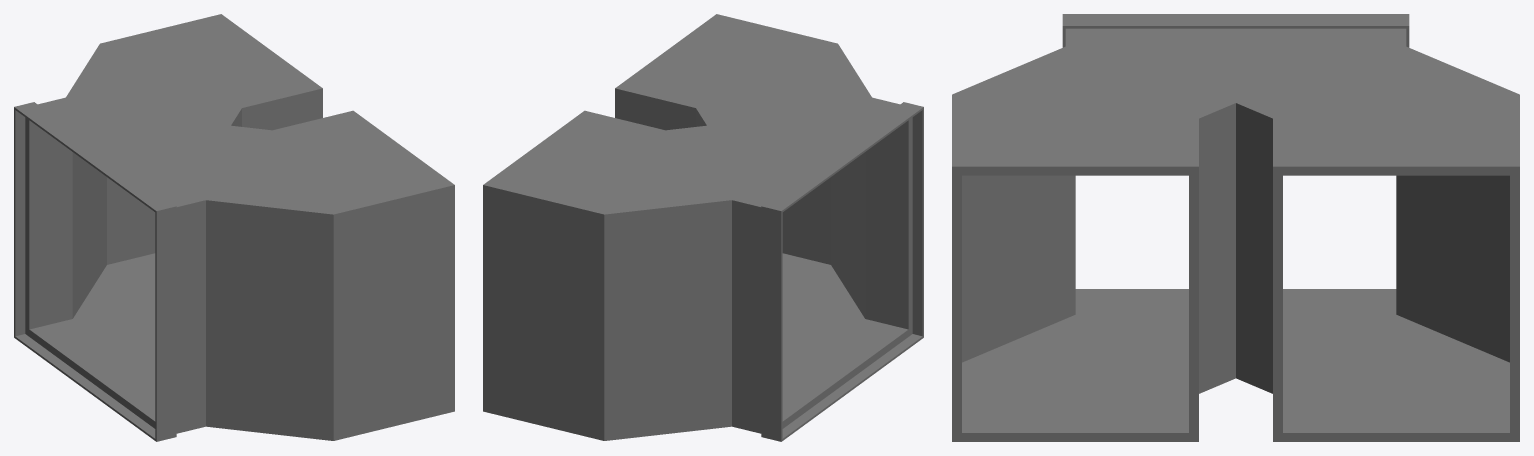
File: Hosenstück_v1.glb
3 renders of one model, left to right at view 1: azimuth 30°, elevation 25°; view 2: azimuth 150°, elevation 25°; view 3: azimuth 270°, elevation 25°, orthographic. The views are drawn at different scales.
Visible parts, largest first — view 1: mesh_id4, mesh_id5; view 2: mesh_id4, mesh_id5; view 3: mesh_id4, mesh_id5.
Boxes of the visible parts, box(x1,y1,x2,y2) form: mesh_id4: box(25, 14, 454, 440); mesh_id5: box(14, 102, 176, 441); mesh_id4: box(483, 14, 912, 440); mesh_id5: box(761, 102, 923, 441); mesh_id4: box(952, 28, 1519, 441); mesh_id5: box(1062, 14, 1409, 47).
Size of the model in its own units: 0.512 by 0.4465 by 0.8192.
2 materials, 2 textured.
